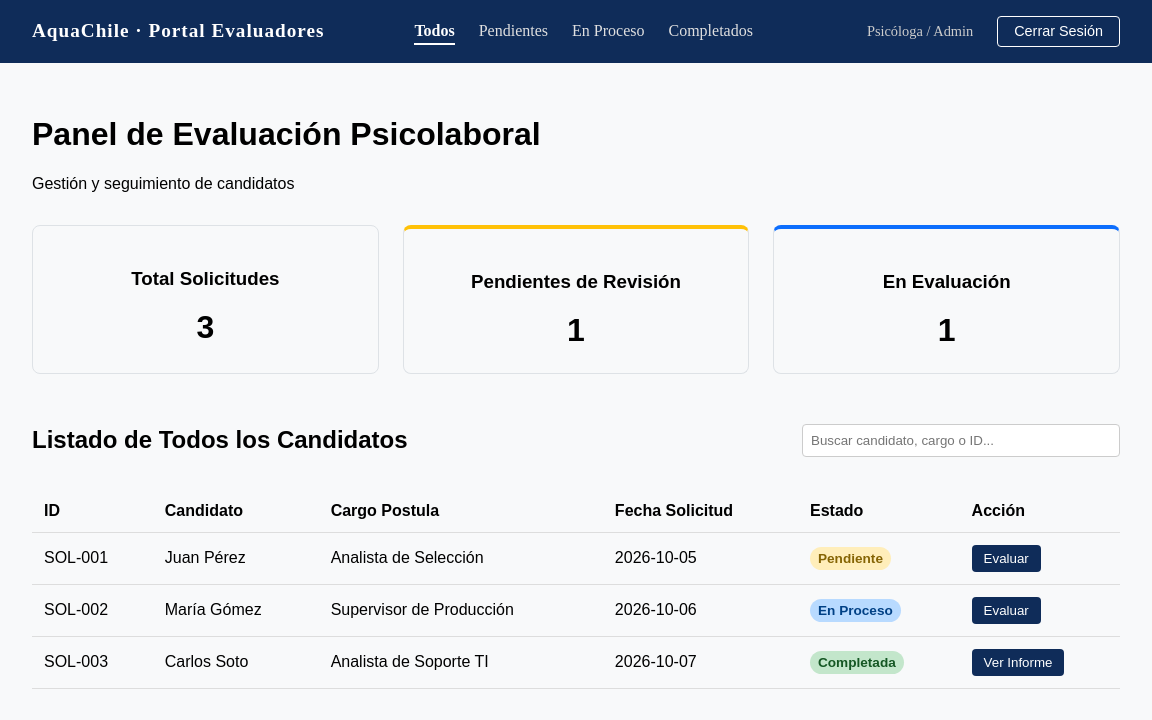
Test: App (navegación) › las pestañas del layout filtran el dashboard
The width and height of the screenshot is (1152, 720).
Expected: the heading "Listado de Todos los Candidatos" is shown, [32, 426, 408, 454]
Click the link "Pendientes" at point(513, 31), box [479, 22, 548, 39]
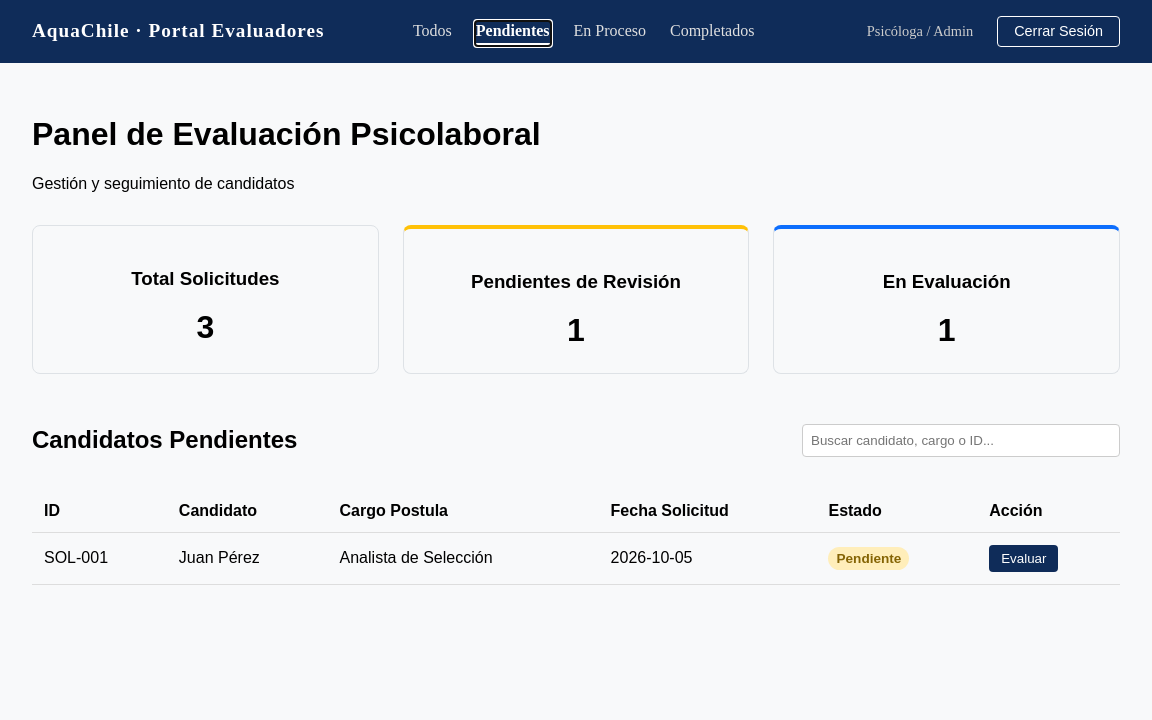
Now the heading "Candidatos Pendientes" is shown, box [32, 426, 297, 454]
Click the link "Completados" at point(712, 31), box [670, 22, 754, 39]
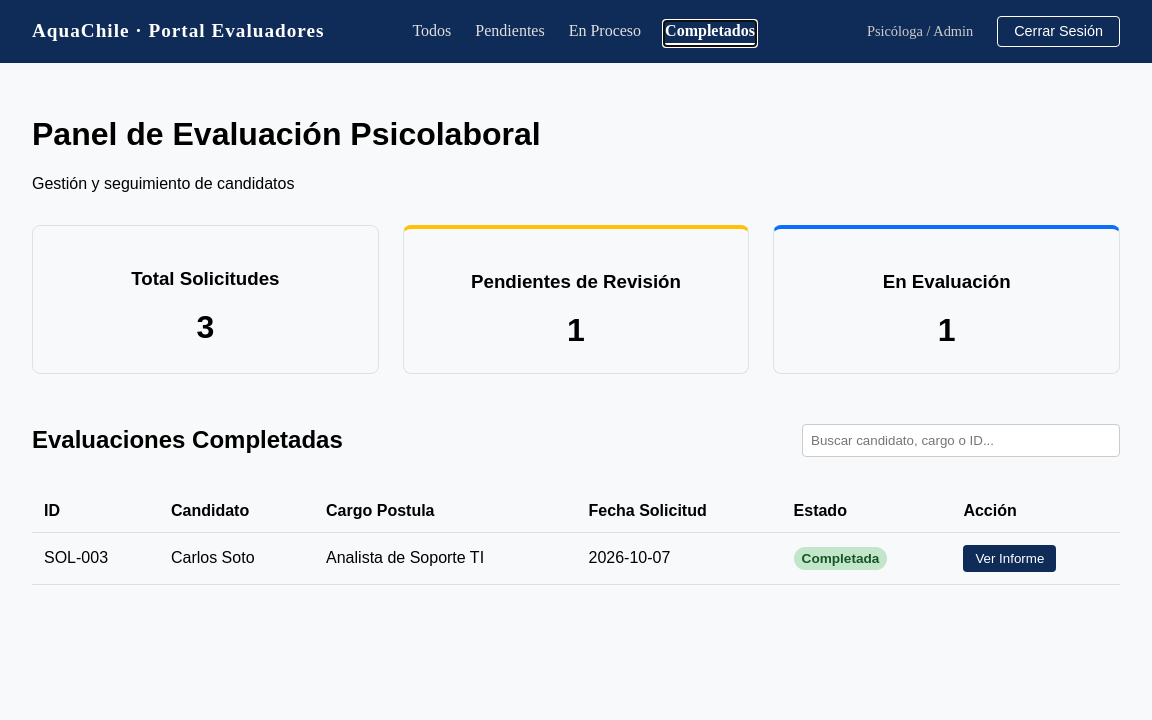
Now the heading "Evaluaciones Completadas" is shown, box [32, 426, 343, 454]
